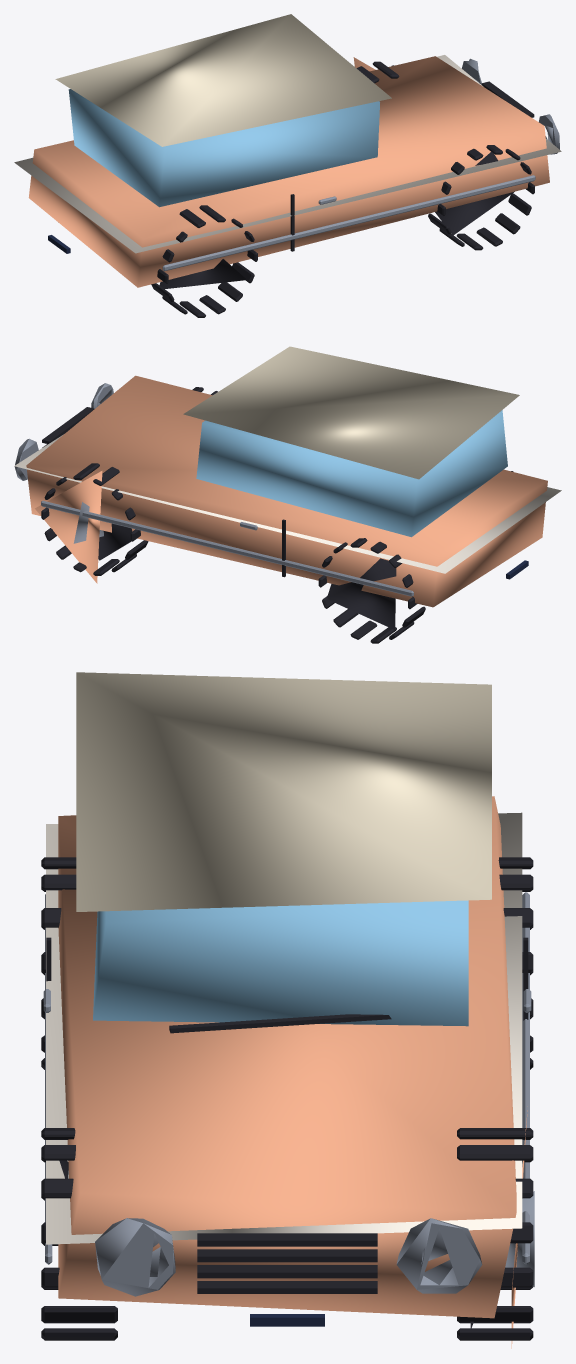
Rendered from car.glb.
3 views of the same model, one above another, from view 1: azimuth 30°, elevation 25°; view 2: azimuth 150°, elevation 25°; view 3: azimuth 270°, elevation 25° (orthographic). The views are drawn at different scales.
Visible parts, largest first — view 1: car; view 2: car; view 3: car.
Part boxes in pixels (x1,y1,x2,y2): car: (14,14,561,317); car: (14,346,561,643); car: (41,672,534,1348).
Size of the model in its own units: 4.28 by 1.64 by 1.97.
Materials: 1 (1 with a texture image).
